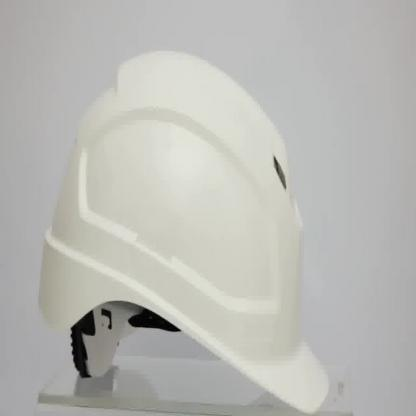helmet: (38, 49, 331, 415)
